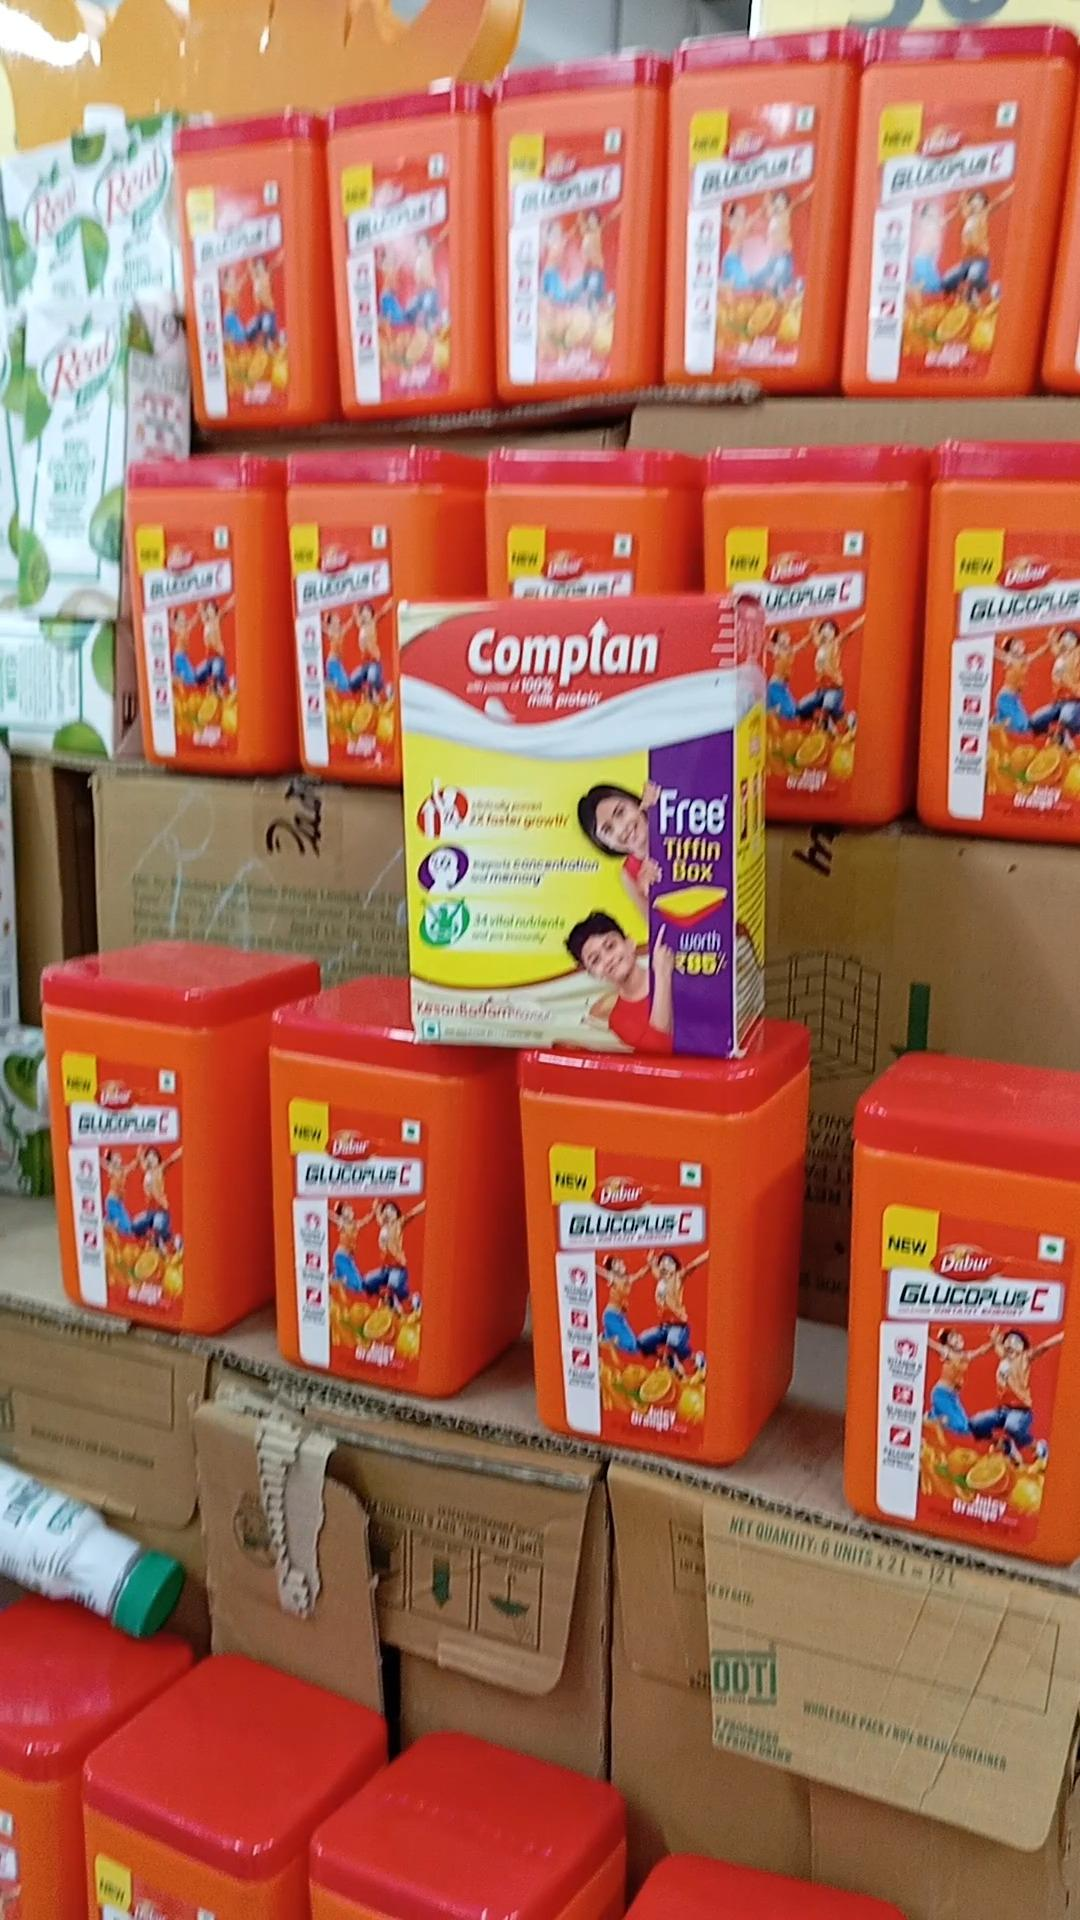COMPLAN_KESAR_BADAM_500_GMS_PACK: (396, 592, 737, 1060)
